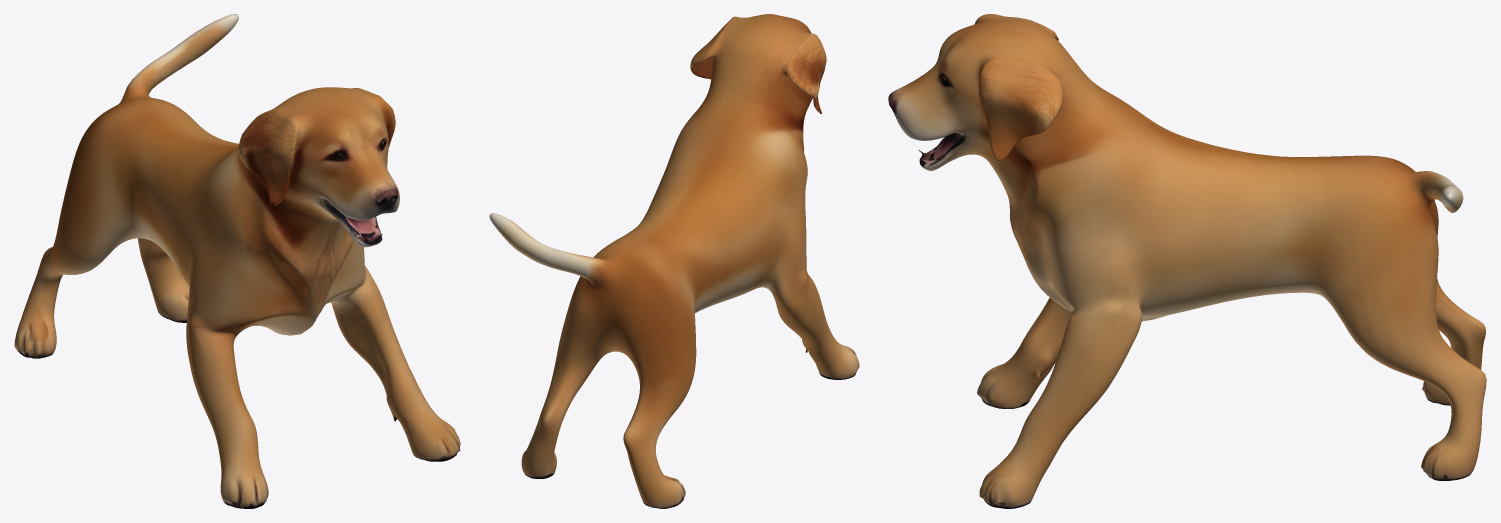
Rendered from dog_playing.glb.
3 renders of one model, left to right at view 1: azimuth 30°, elevation 25°; view 2: azimuth 150°, elevation 25°; view 3: azimuth 270°, elevation 25°, orthographic. The views are drawn at different scales.
Parts seen in each view (by area): view 1: model; view 2: model; view 3: model.
Boxes of the visible parts, box(x1,y1,x2,y2) form: model: box(14, 14, 460, 508); model: box(489, 14, 859, 508); model: box(888, 14, 1486, 508).
Bounding box in the file's own units: 0.9294 × 1.45 × 1.9.
1 material, 1 textured.
